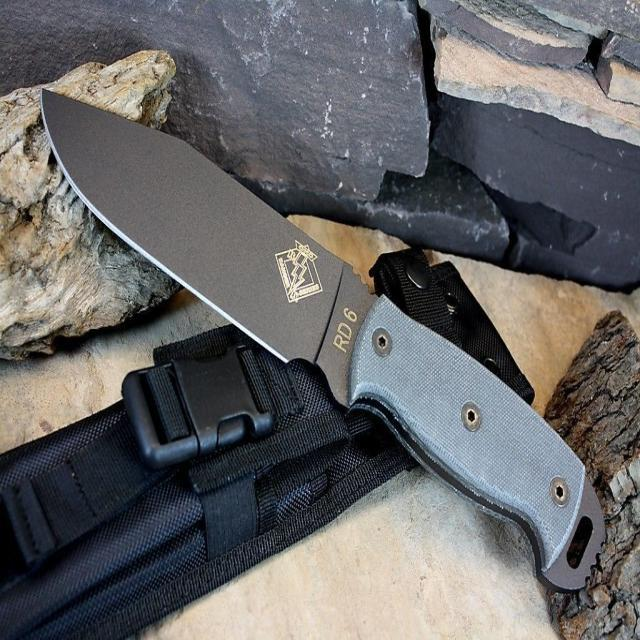Knife: (42, 92, 604, 590)
